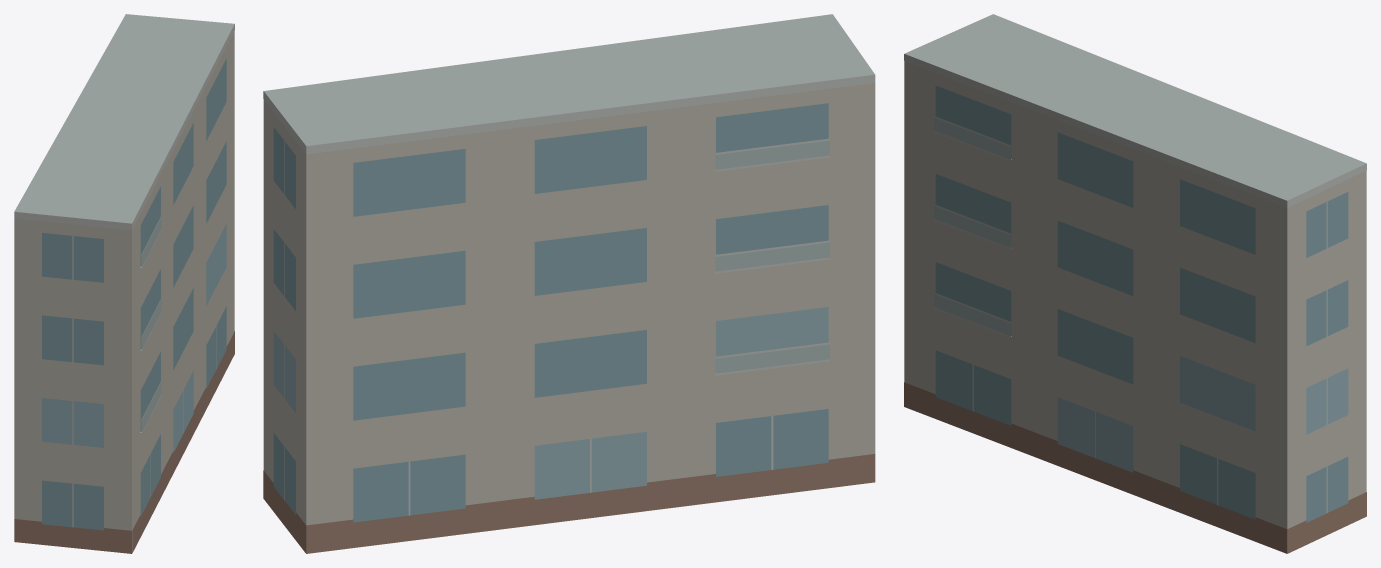
The model's file is survey-upis-32928453.glb.
The picture shows the model from 3 angles, left to right: view 1: azimuth 30°, elevation 25°; view 2: azimuth 150°, elevation 25°; view 3: azimuth 270°, elevation 25°; orthographic projection. The views are drawn at different scales.
Parts seen in each view (by area): view 1: survey-upis-32928453.tmp; view 2: survey-upis-32928453.tmp; view 3: survey-upis-32928453.tmp.
Part boxes in pixels (x1,y1,x2,y2): survey-upis-32928453.tmp: (14, 14, 234, 553); survey-upis-32928453.tmp: (263, 14, 875, 553); survey-upis-32928453.tmp: (904, 14, 1366, 553).
Size of the model in its own units: 13.85 by 12.2 by 14.49.
